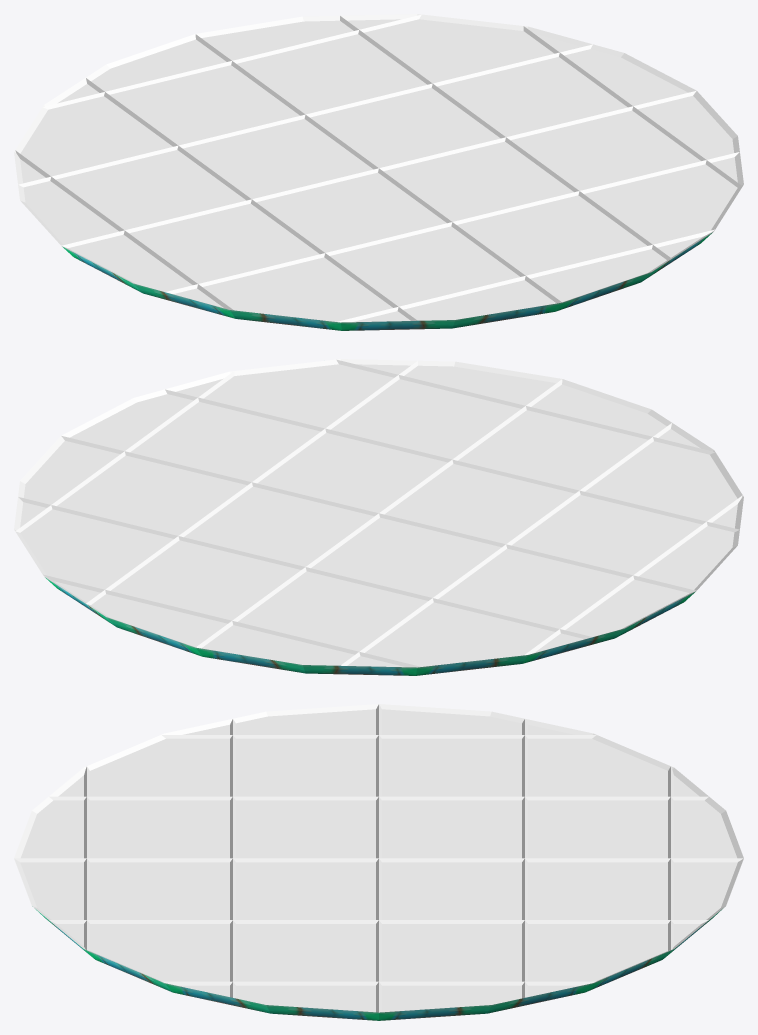
The model's file is mirrorm_bake.dae.
3 views of the same model, one above another, from view 1: azimuth 30°, elevation 25°; view 2: azimuth 150°, elevation 25°; view 3: azimuth 270°, elevation 25° (orthographic).
Parts seen in each view (by area): view 1: m0, m1; view 2: m0, m1; view 3: m0, m1.
Part boxes in pixels (left/top/right/bottom): m0: left=14, top=14, right=743, bottom=322; m1: left=62, top=232, right=712, bottom=330; m0: left=14, top=359, right=743, bottom=667; m1: left=45, top=577, right=695, bottom=675; m0: left=14, top=704, right=743, bottom=1012; m1: left=32, top=906, right=723, bottom=1020.
Size of the model in its own units: 2500 by 417 by 2500.
Materials: 3 (2 with a texture image).
